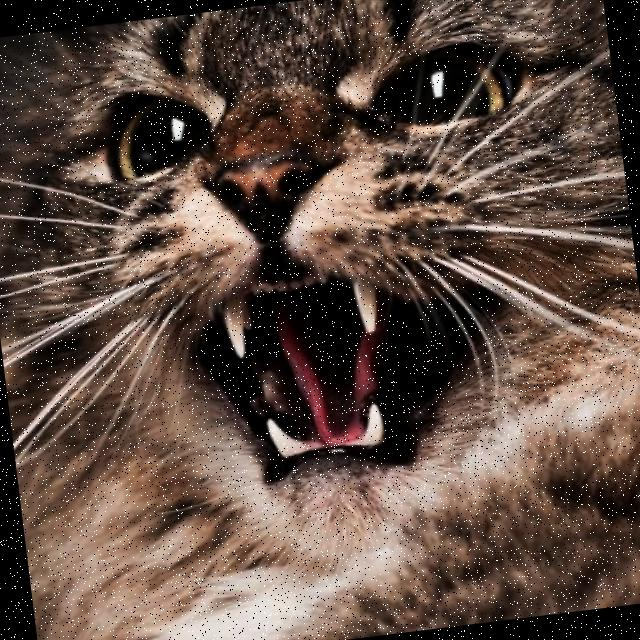Angry: (49, 12, 582, 526)
